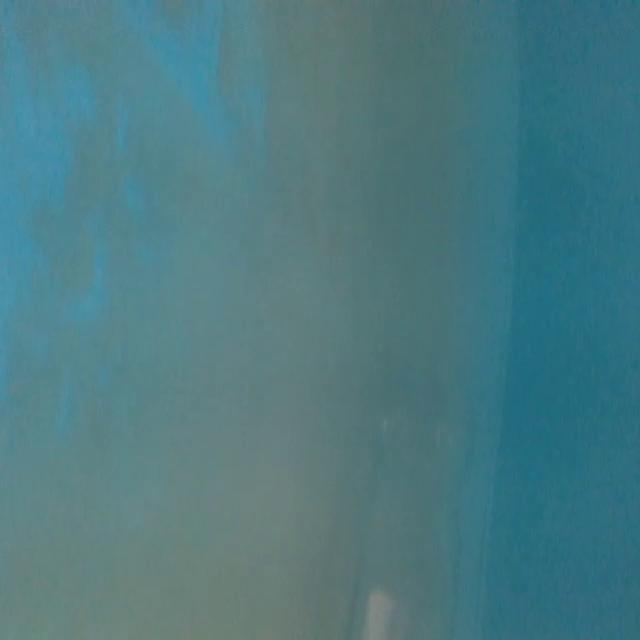plastic bottle: (341, 393, 472, 640)
